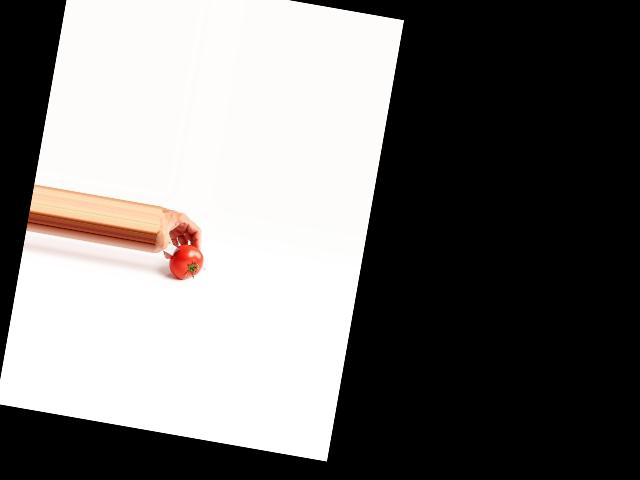tomato: (167, 241, 205, 282)
